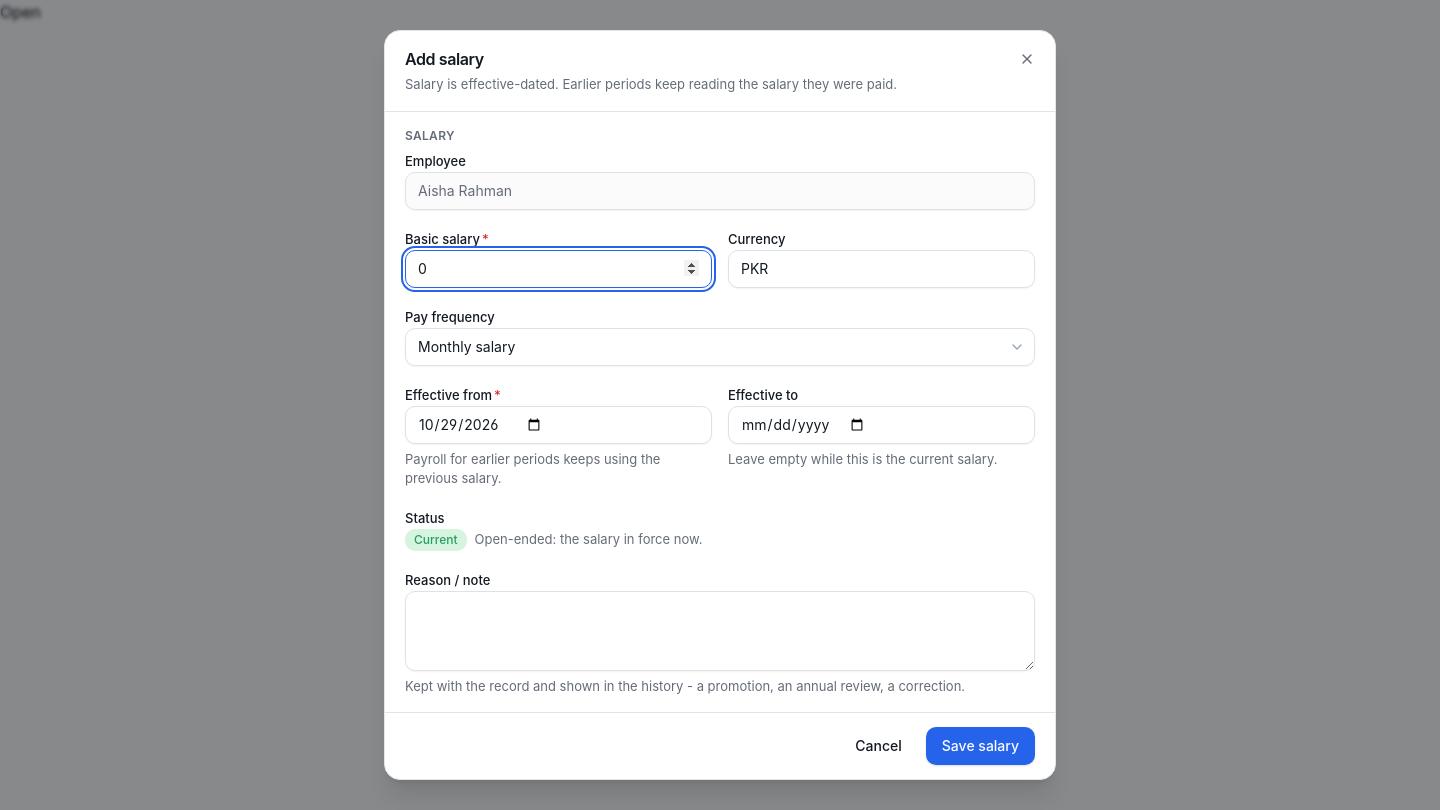
Test: SalaryDialog: validation › requires a basic salary and an effective-from date before it calls the API
The width and height of the screenshot is (1440, 810).
Clear the number field labelled "Basic salary*" at (558, 268), box [405,250,712,288]
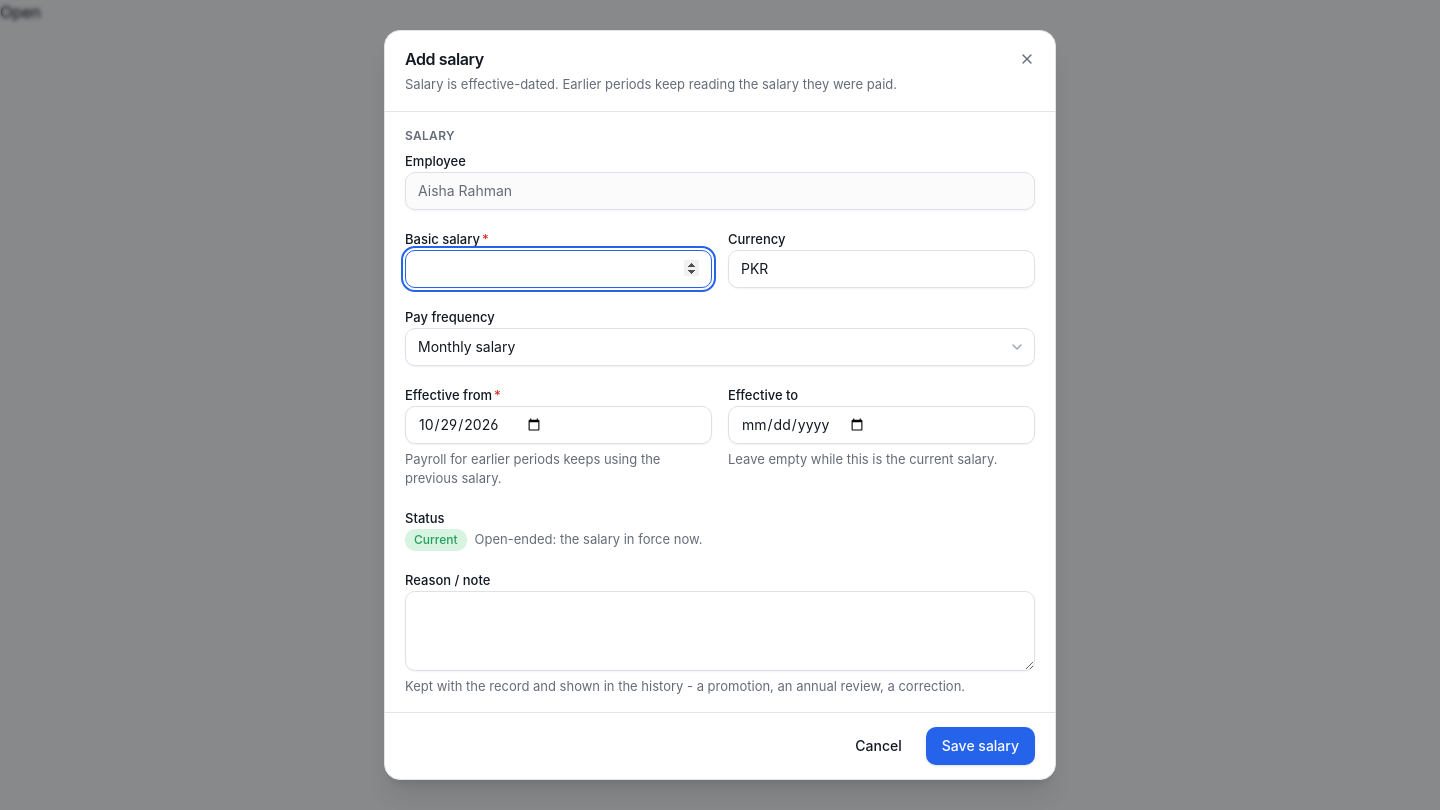
Clear the date field labelled "Effective from*" at (558, 424), box [405,406,712,444]
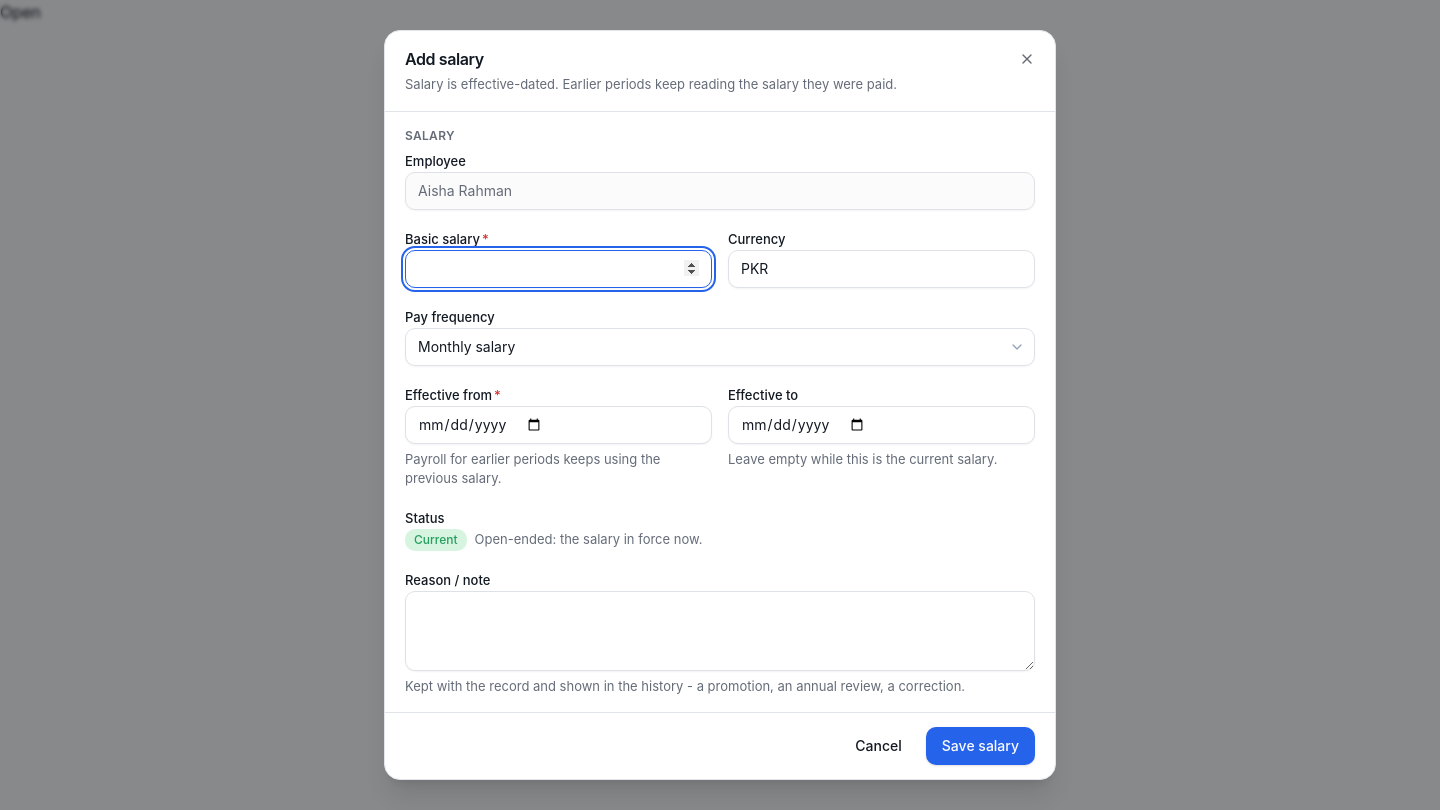
Click the button "Save salary" at (980, 746), box [926,727,1035,765]
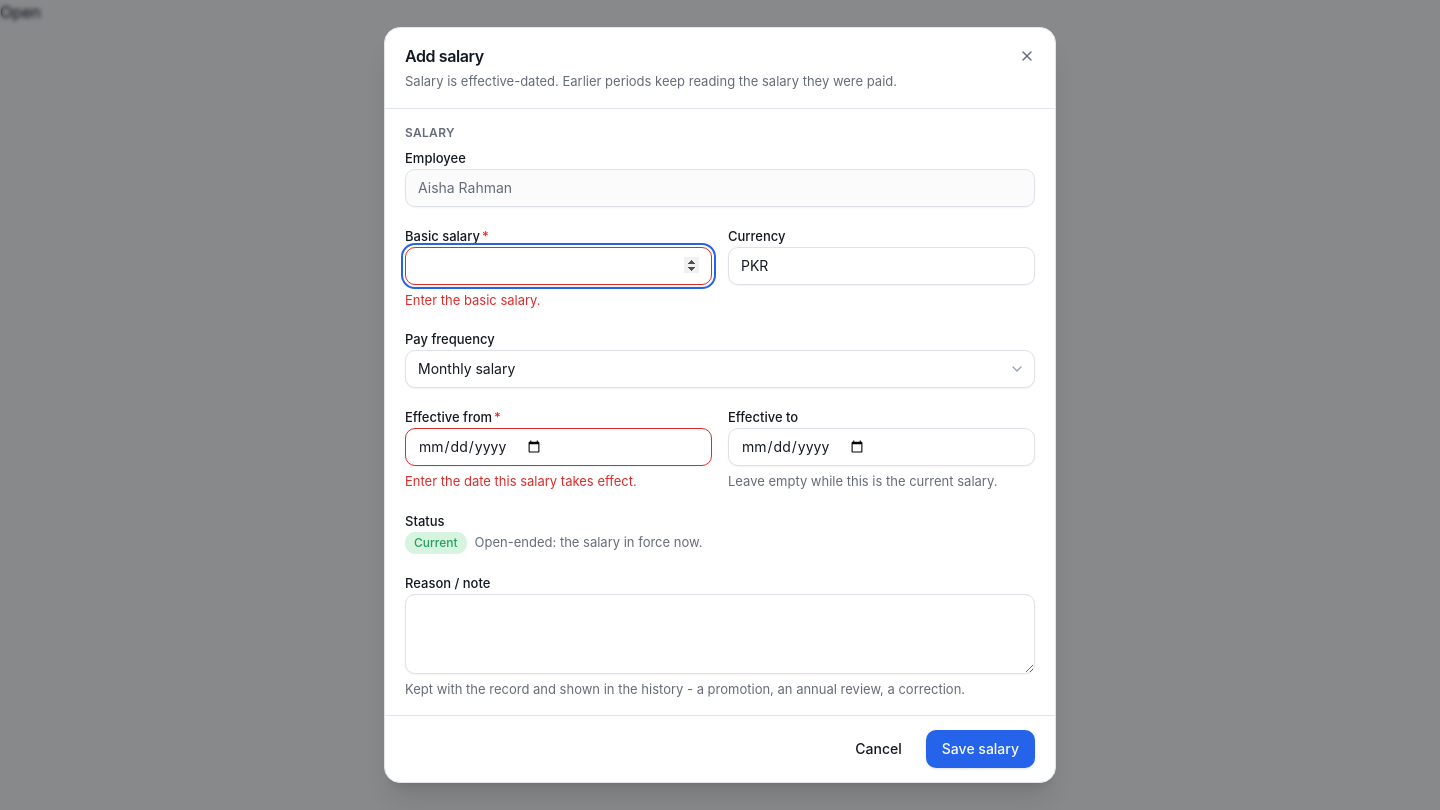
Check: the text "Enter the basic salary." is shown, box [405,292,541,308]
Check: the text "Enter the date this salary takes effect." is shown, box [405,473,637,489]
